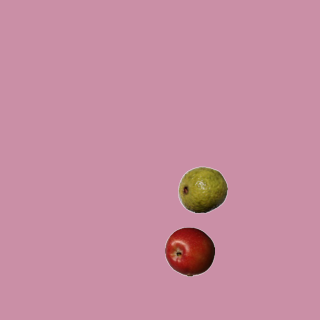Apple Braeburn: (164, 226, 214, 276)
Guava: (177, 164, 227, 214)
